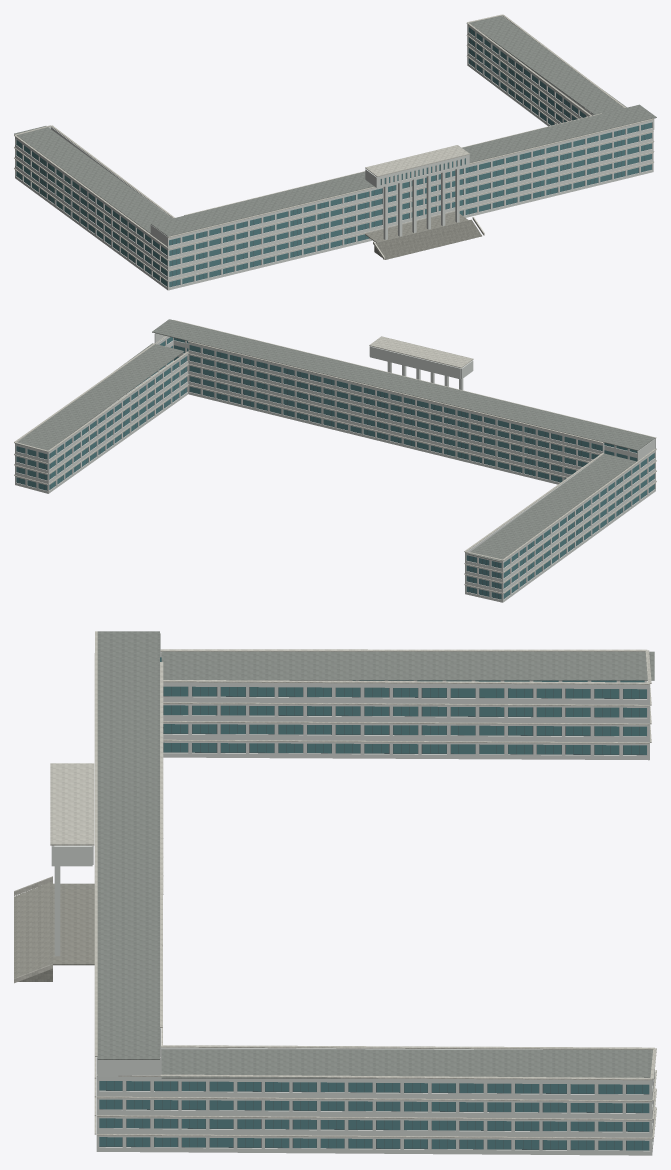
3 views of the same model, one above another, from view 1: azimuth 30°, elevation 25°; view 2: azimuth 150°, elevation 25°; view 3: azimuth 270°, elevation 25° (orthographic). The views are drawn at different scales.
Visible parts, largest first — view 1: maritime__white, maritime__glass, maritime__roof, maritime__trim, maritime__frame, maritime__stair-main, maritime__portico-column, maritime__portico-crown, maritime__threshold-main; view 2: maritime__white, maritime__glass, maritime__roof, maritime__trim, maritime__frame, maritime__portico-crown; view 3: maritime__roof, maritime__white, maritime__glass, maritime__trim, maritime__frame, maritime__stair-main, maritime__threshold-main, maritime__portico-crown.
Boxes of the visible parts, x1,y1,x2,y2 form: maritime__white: (15,16,654,290); maritime__glass: (16,27,651,287); maritime__roof: (14,15,656,236); maritime__trim: (14,14,654,281); maritime__frame: (16,29,652,287); maritime__stair-main: (374,219,481,259); maritime__portico-column: (383,168,459,239); maritime__portico-crown: (365,154,469,188); maritime__threshold-main: (365,212,468,242); maritime__white: (15,333,655,602); maritime__glass: (16,337,654,599); maritime__roof: (15,319,654,561); maritime__trim: (14,320,656,593); maritime__frame: (16,345,654,599); maritime__portico-crown: (369,346,473,379); maritime__roof: (97,631,654,1078); maritime__white: (96,633,654,1155); maritime__glass: (99,657,649,1150); maritime__trim: (14,631,656,1139); maritime__frame: (99,687,648,1150); maritime__stair-main: (14,881,52,981); maritime__threshold-main: (53,883,94,965); maritime__portico-crown: (51,845,93,866).
Bounding box in the file's own units: 187 × 27.53 × 118.
7 materials, 3 textured.
